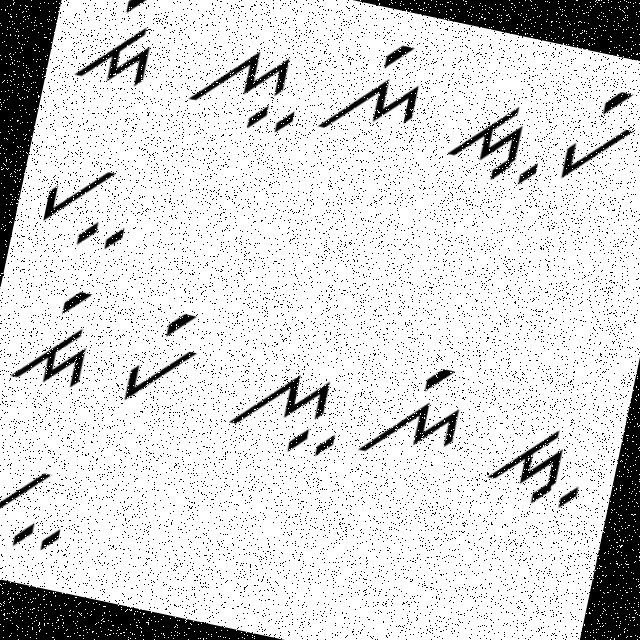dah: (436, 82, 557, 192), (478, 411, 594, 522)
dang: (2, 268, 106, 401), (64, 0, 174, 98)
nah: (215, 344, 354, 466), (177, 31, 313, 142)
nang: (312, 26, 434, 152), (352, 350, 472, 478)
pah: (28, 142, 143, 256), (0, 444, 82, 560)
pang: (115, 298, 212, 419), (552, 74, 639, 196)
